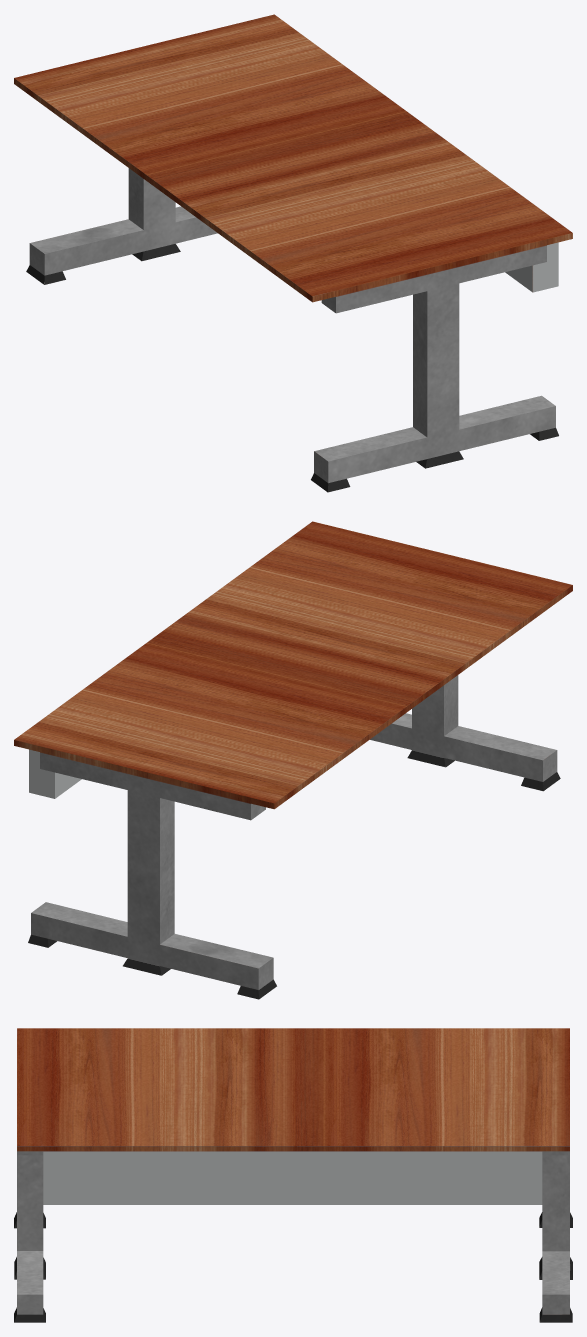
Rendered from Mesa_Moda_Texturizado.fbx.
3 renders of one model, top to bottom at view 1: azimuth 30°, elevation 25°; view 2: azimuth 150°, elevation 25°; view 3: azimuth 270°, elevation 25°, orthographic. The views are drawn at different scales.
Visible parts, largest first — view 1: Cube; view 2: Cube; view 3: Cube.
Part boxes in pixels (bbox=[...]): Cube: bbox=[14, 14, 572, 492]; Cube: bbox=[14, 521, 572, 999]; Cube: bbox=[14, 1028, 572, 1322].
Bounding box in the file's own units: 813 × 592 × 1632.
1 material, 1 textured.
